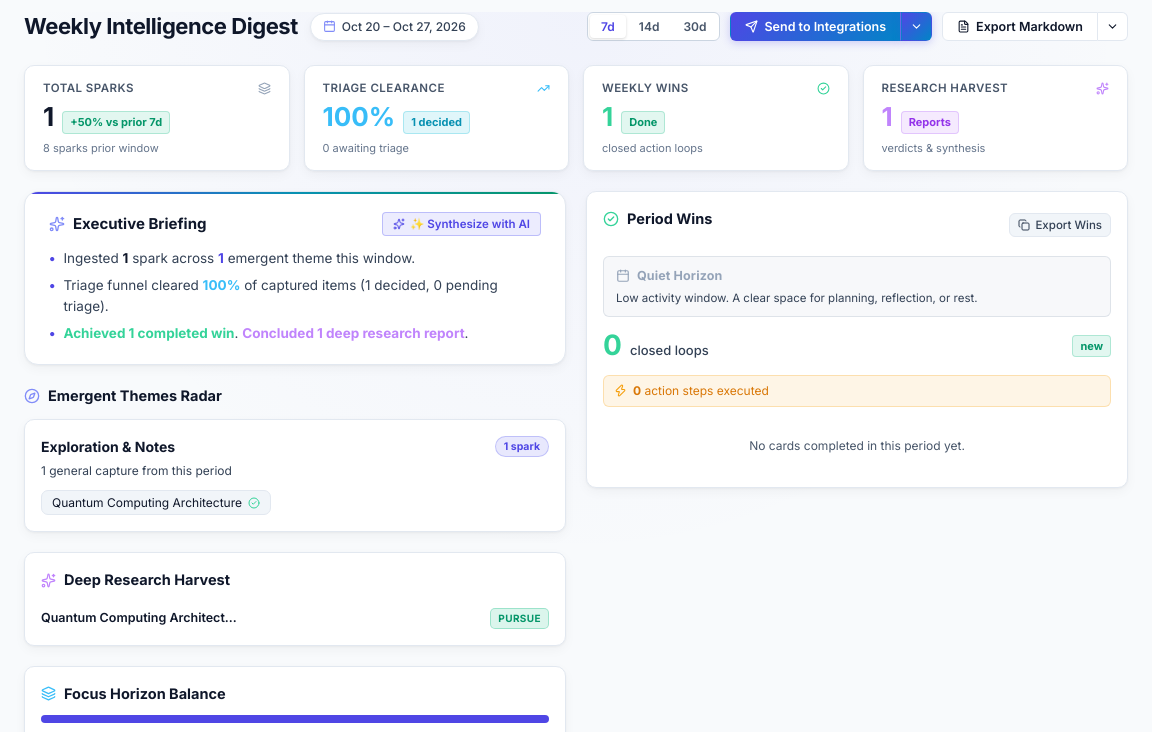
Test: DigestView › renders dual-action split button with Copy to Clipboard and Download Markdown options in dropdown
This screenshot has width=1152, height=732.
Click the button named "More export options".
click(1113, 26)  # box [1098, 12, 1128, 41]
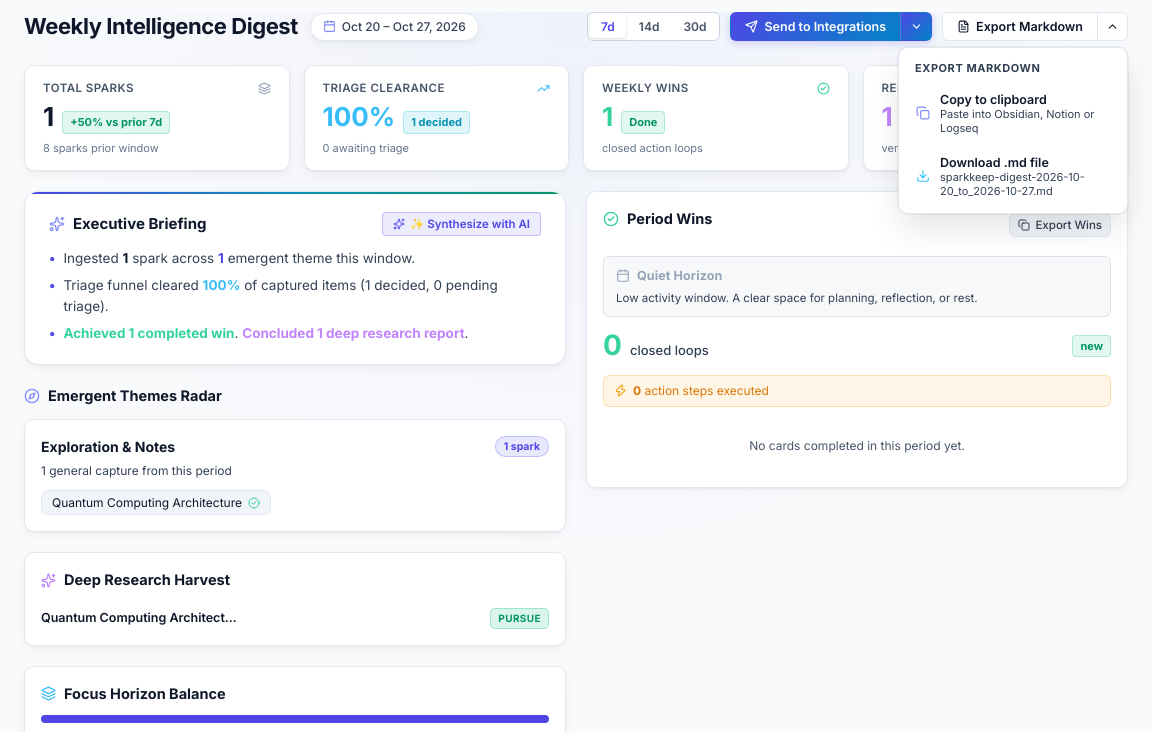
Expected: the menu item "Copy to clipboard Paste into Obsidian, Notion or Logseq" is shown, [905, 82, 1121, 144]
Expected: the menu item "Download .md file" is shown, [905, 146, 1121, 206]
